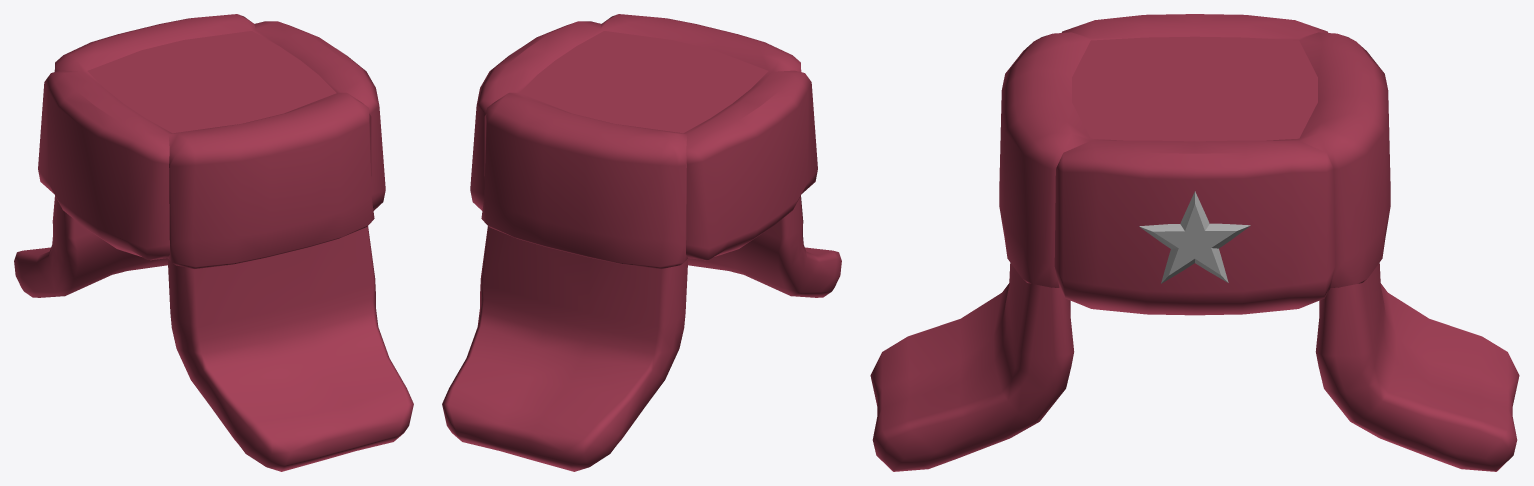
Rendered from Hat_Ear_flaps.fbx.
The picture shows the model from 3 angles, left to right: view 1: azimuth 30°, elevation 25°; view 2: azimuth 150°, elevation 25°; view 3: azimuth 270°, elevation 25°; orthographic projection. The views are drawn at different scales.
Parts seen in each view (by area): view 1: Hat_Ear_flaps; view 2: Hat_Ear_flaps; view 3: Hat_Ear_flaps.
Part boxes in pixels (x1,y1,x2,y2): Hat_Ear_flaps: [14, 14, 413, 471]; Hat_Ear_flaps: [442, 14, 841, 471]; Hat_Ear_flaps: [870, 14, 1519, 471].
Bounding box in the file's own units: 1.36 × 1.38 × 2.27.
